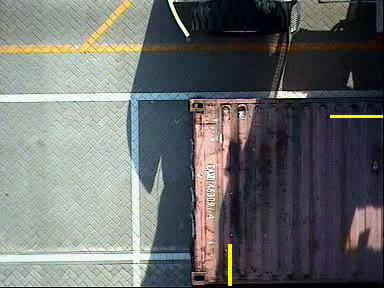groundmarker_2: (133, 109, 209, 159), (136, 215, 212, 264)
